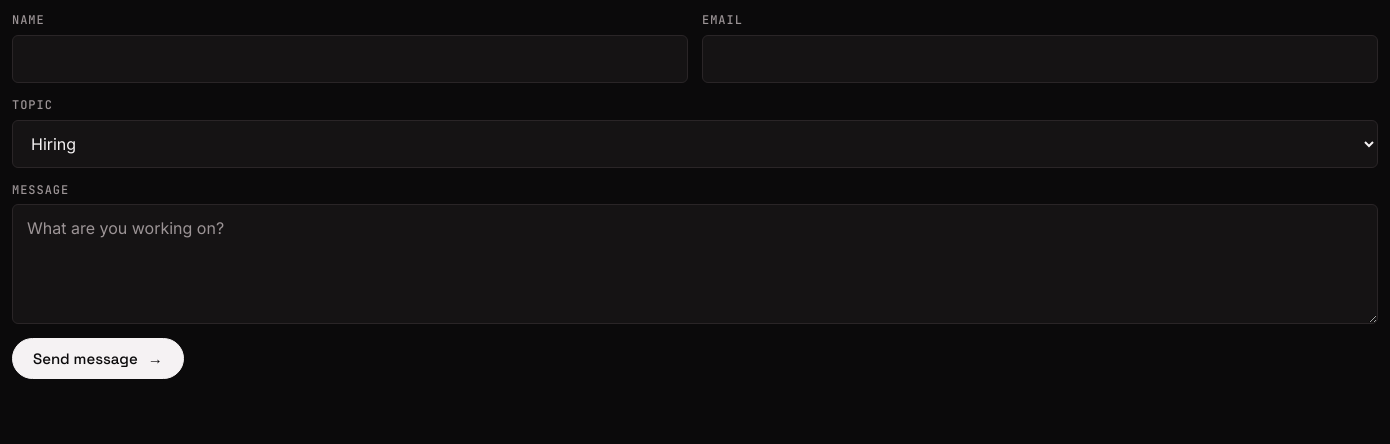
ContactForm › shows an inline error under each bad field, linked to it, and focuses the first
The width and height of the screenshot is (1390, 444).
Click the button "Send message →" at (98,359), box [12,338,184,379]
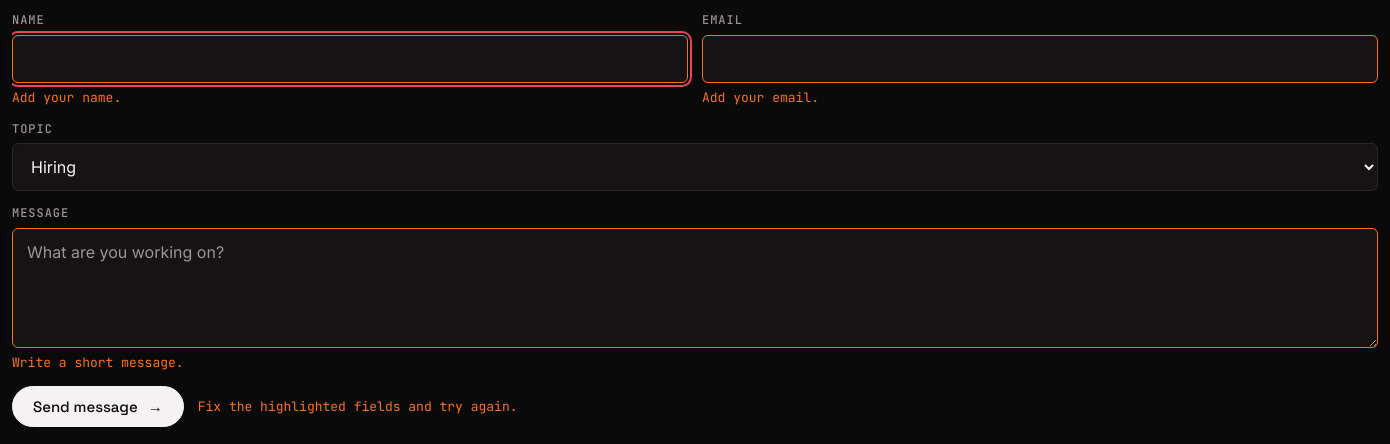
Check: the message shows "Fix the highlighted fields", box [198,398,518,415]
